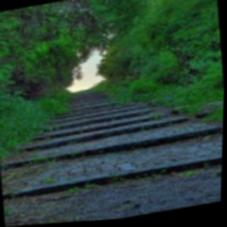Bench: (16, 90, 225, 214)
